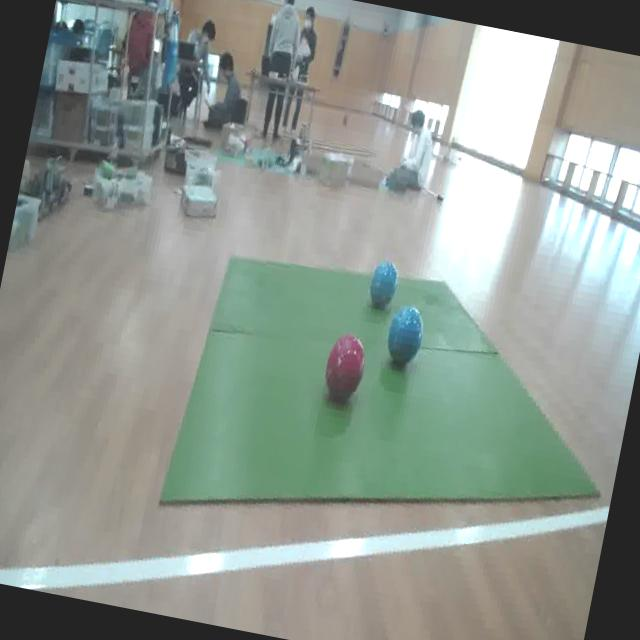blue_ball: (378, 296, 431, 378), (364, 256, 404, 314)
red_ball: (316, 328, 368, 409)
